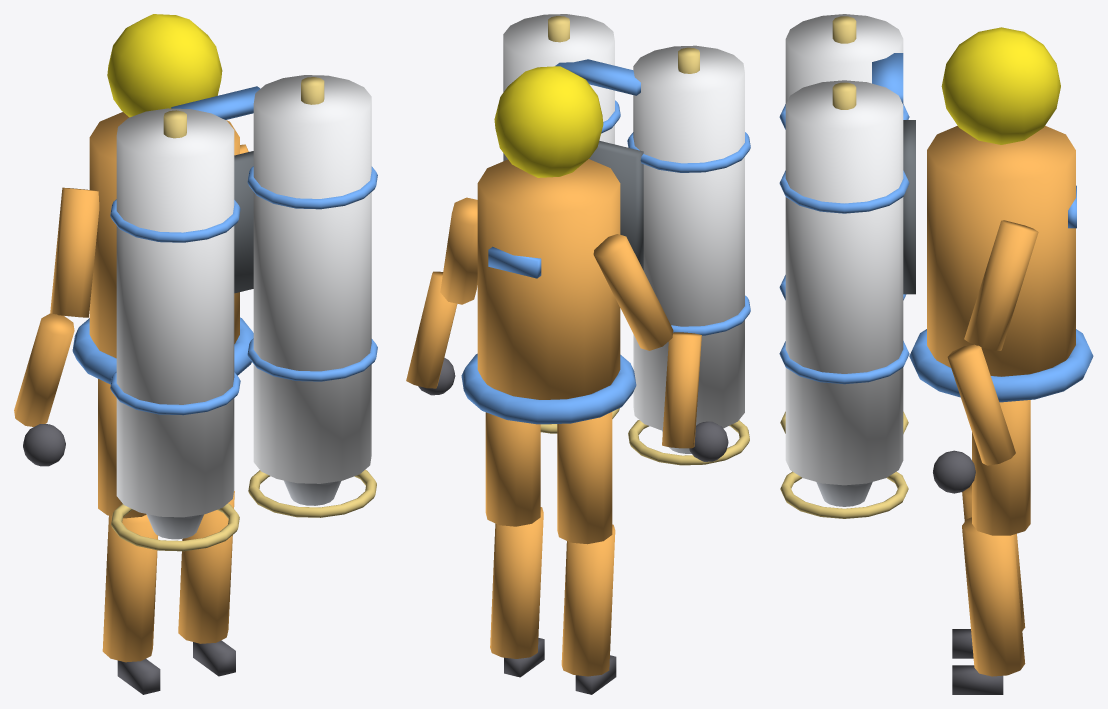
Rendered from rocket_pilot.glb.
The picture shows the model from 3 angles, left to right: view 1: azimuth 30°, elevation 25°; view 2: azimuth 150°, elevation 25°; view 3: azimuth 270°, elevation 25°; orthographic projection. The views are drawn at different scales.
Parts seen in each view (by area): view 1: rocket_pilot_body, leg_L_mesh, leg_R_mesh, nozzles_mesh; view 2: rocket_pilot_body, leg_L_mesh, leg_R_mesh, nozzles_mesh; view 3: rocket_pilot_body, leg_R_mesh, nozzles_mesh, leg_L_mesh.
Boxes of the visible parts, left/top/right/bottom form: rocket_pilot_body: left=14, top=14, right=377, bottom=517; leg_L_mesh: left=98, top=379, right=160, bottom=694; leg_R_mesh: left=178, top=491, right=235, bottom=676; nozzles_mesh: left=111, top=469, right=376, bottom=551; rocket_pilot_body: left=406, top=14, right=750, bottom=461; leg_L_mesh: left=557, top=412, right=616, bottom=694; leg_R_mesh: left=485, top=412, right=544, bottom=677; nozzles_mesh: left=540, top=408, right=749, bottom=465; rocket_pilot_body: left=779, top=14, right=1093, bottom=493; leg_R_mesh: left=952, top=400, right=1030, bottom=694; nozzles_mesh: left=780, top=411, right=908, bottom=518; leg_L_mesh: left=952, top=484, right=1025, bottom=658.
Bounding box in the file's own units: 0.95 × 1.8 × 0.801.
